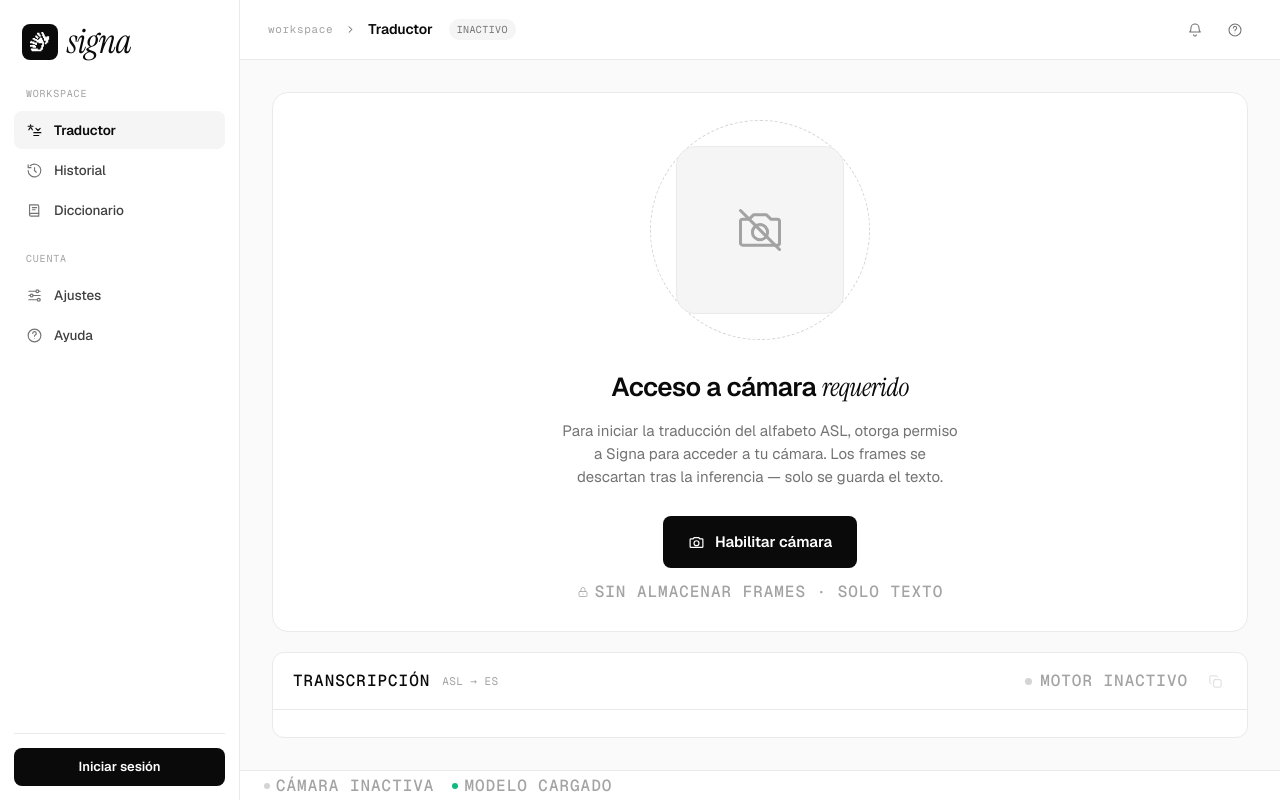
Test: AppTranslatorPage › shows error when getUserMedia is not available
This screenshot has width=1280, height=800.
Click the button "Habilitar cámara" at x=760, y=542, box [663,516,857,568]
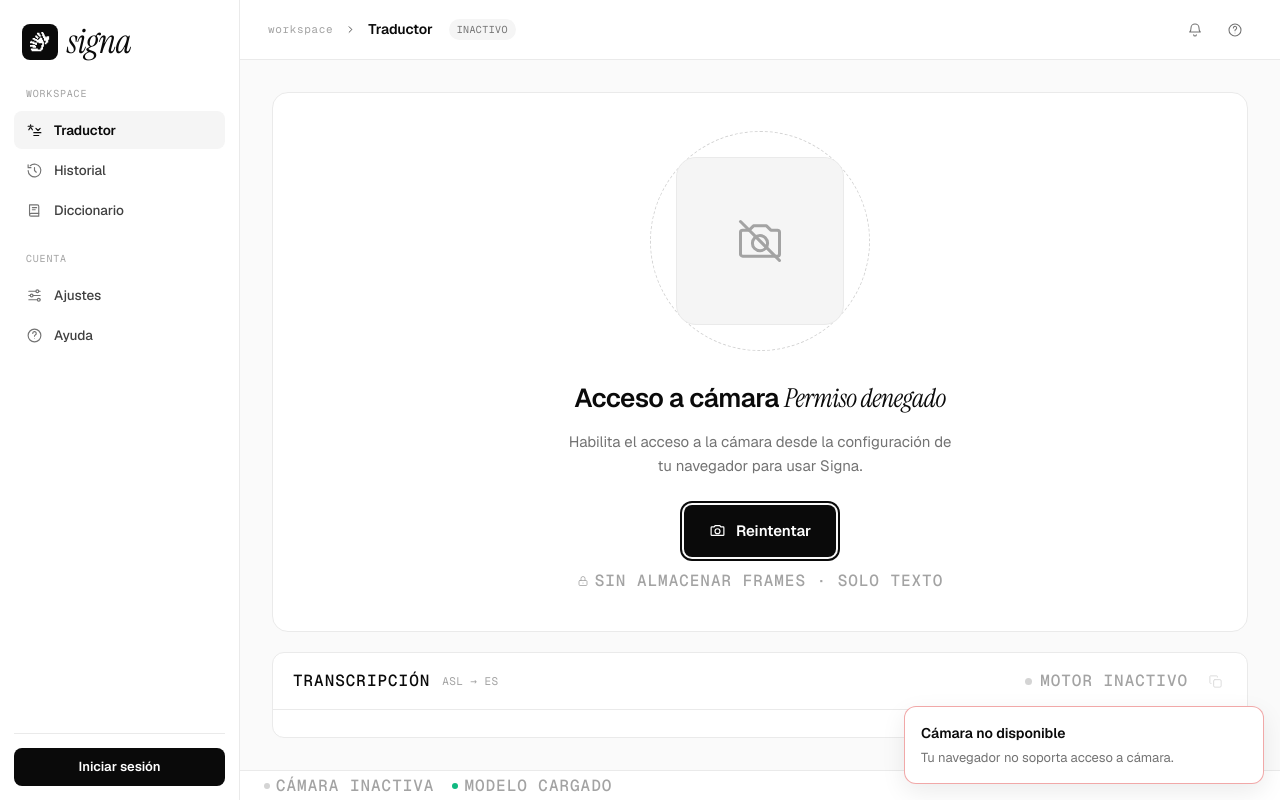
expect the text "Cámara no disponible" is shown: met, box [921,724,1066,742]
